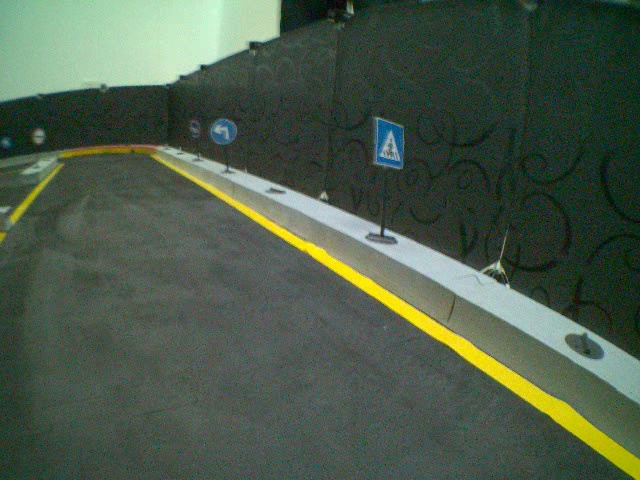crossing: (375, 116, 405, 171)
turn: (208, 118, 238, 148)
